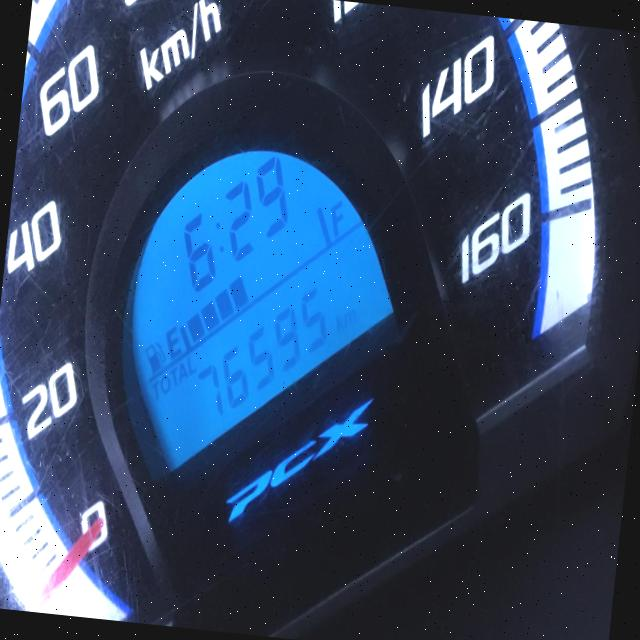odometer: (110, 127, 414, 492)
